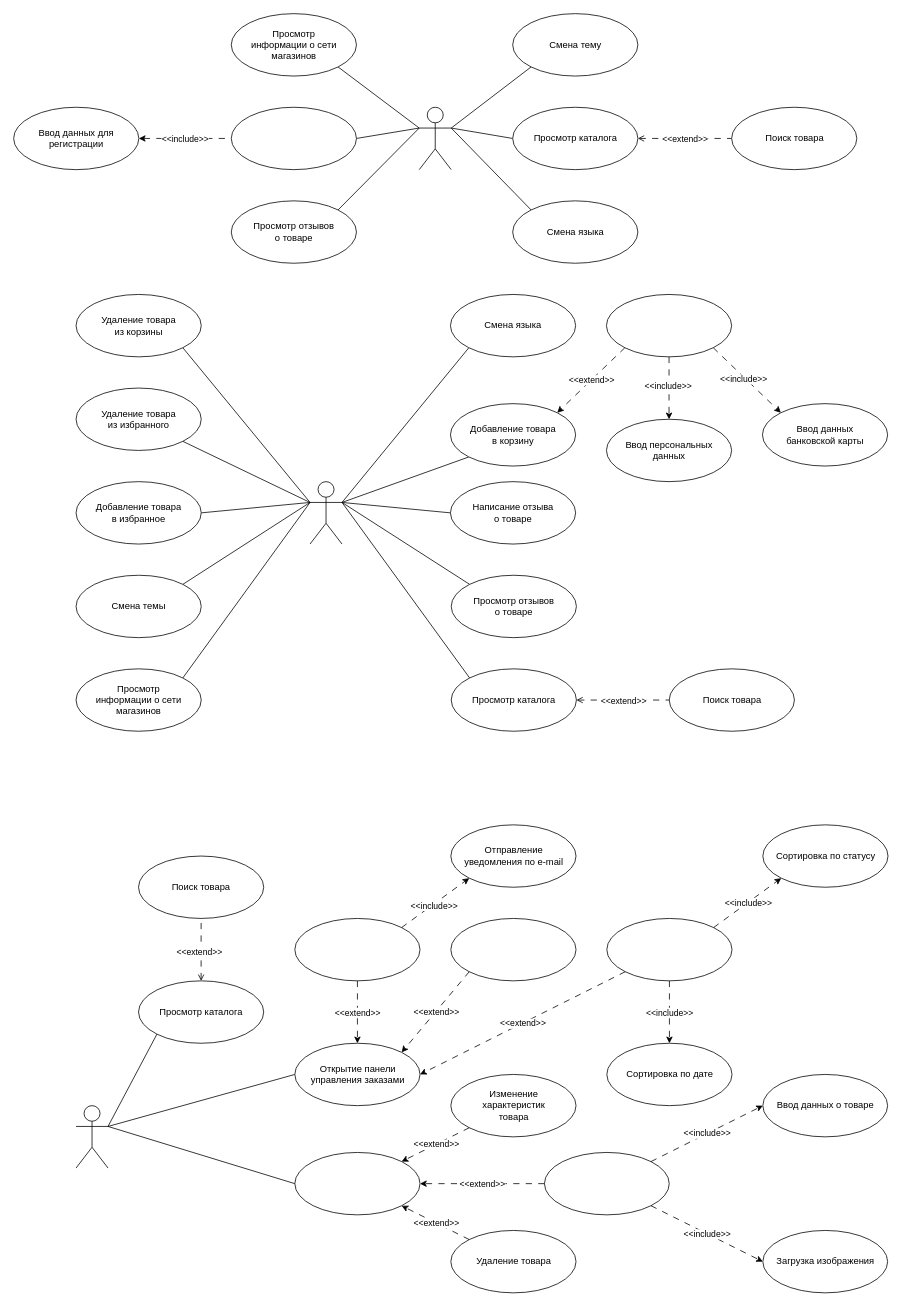
This 902x1307 diagram has some shape labels left out. Here are the shapes that lost their labels. From the top down, the centre of each, then its label:
(293,138): Регистрация
(434,138): Гость
(669,325): Оформление доставки
(325,512): Пользователь
(357,949): Установка статуса заказа "Доставлено"
(513,949): Установка статуса заказа "Оформлен"
(669,949): Сортировка товаров
(91,1136): Администратор
(357,1183): Открытие панели управления каталогом
(606,1183): Добавление товара
